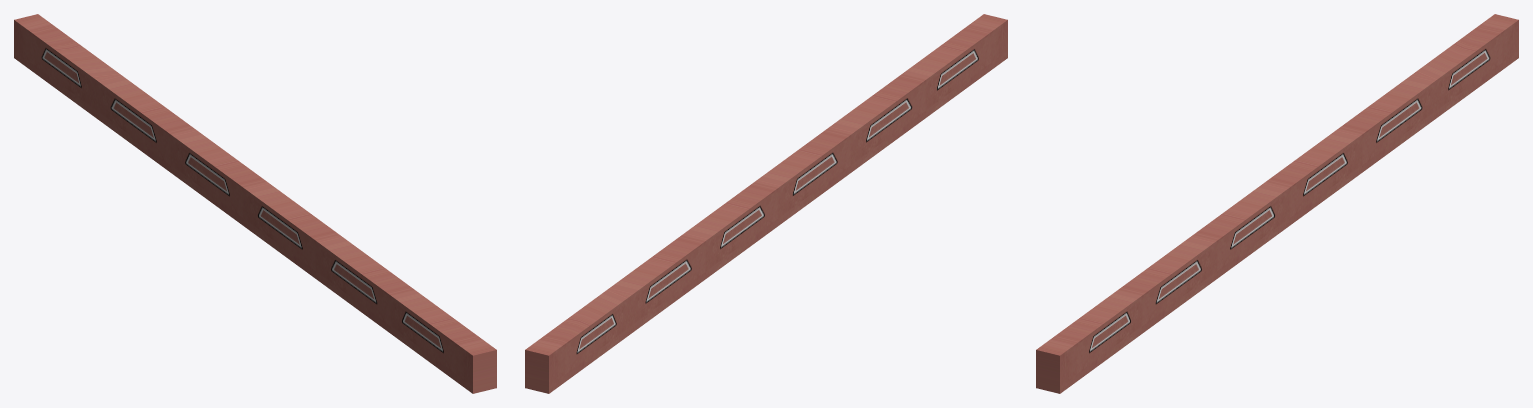
Rendered from SM_Hwaban02C.fbx.
The picture shows the model from 3 angles, left to right: view 1: azimuth 30°, elevation 25°; view 2: azimuth 150°, elevation 25°; view 3: azimuth 330°, elevation 25°; orthographic projection.
Visible parts, largest first — view 1: SM_Hwaban02C; view 2: SM_Hwaban02C; view 3: SM_Hwaban02C.
Part boxes in pixels (box(x1,y1,x2,y2)): SM_Hwaban02C: box(14, 14, 496, 393); SM_Hwaban02C: box(525, 14, 1007, 393); SM_Hwaban02C: box(1036, 14, 1518, 393).
Bounding box in the file's own units: 9.1 × 302 × 13.9.
Materials: 1 (1 with a texture image).
